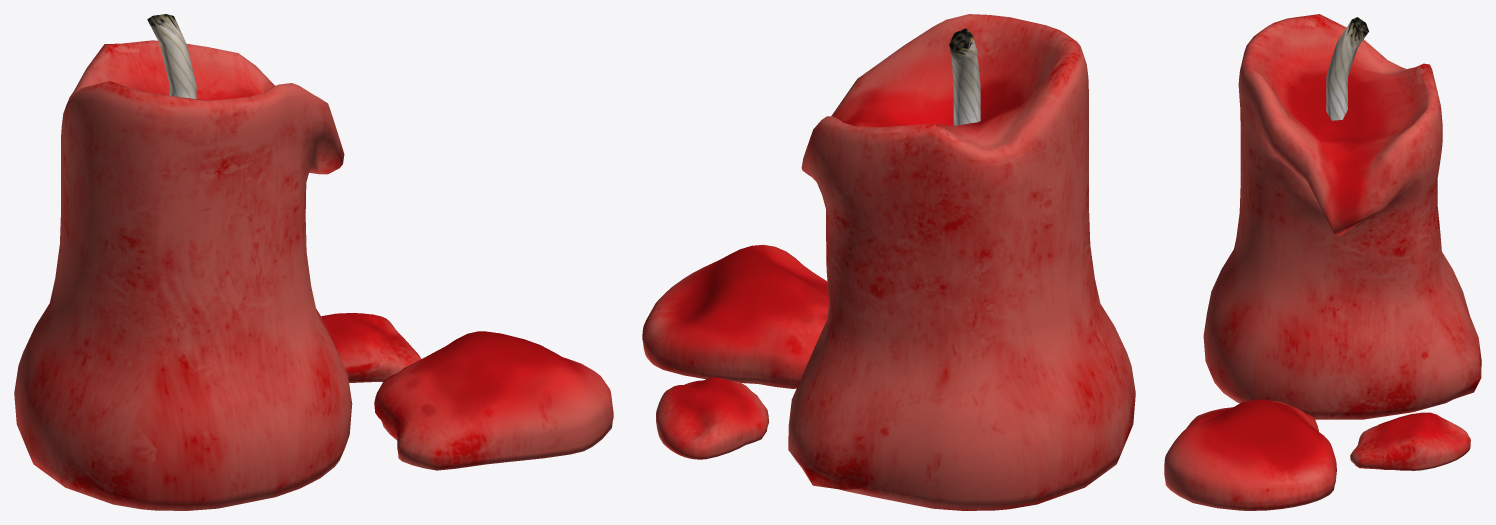
The model's file is Candle2.fbx.
3 views of the same model, side by side, from view 1: azimuth 30°, elevation 25°; view 2: azimuth 150°, elevation 25°; view 3: azimuth 270°, elevation 25° (orthographic). The views are drawn at different scales.
Visible parts, largest first — view 1: CandleBase, BigWax, SmallWax, Wick; view 2: CandleBase, BigWax, SmallWax, Wick; view 3: CandleBase, BigWax, SmallWax, Wick.
Boxes of the visible parts, <box> form: CandleBase: <box>14,40,352,510</box>; BigWax: <box>374,331,613,470</box>; SmallWax: <box>321,313,421,382</box>; Wick: <box>147,14,196,98</box>; CandleBase: <box>788,14,1135,510</box>; BigWax: <box>642,244,828,388</box>; SmallWax: <box>656,377,768,459</box>; Wick: <box>949,28,980,125</box>; CandleBase: <box>1203,14,1481,419</box>; BigWax: <box>1164,399,1336,510</box>; SmallWax: <box>1350,412,1470,470</box>; Wick: <box>1326,17,1368,120</box>.
Bounding box in the file's own units: 492 × 399 × 332.
4 materials, 4 textured.
